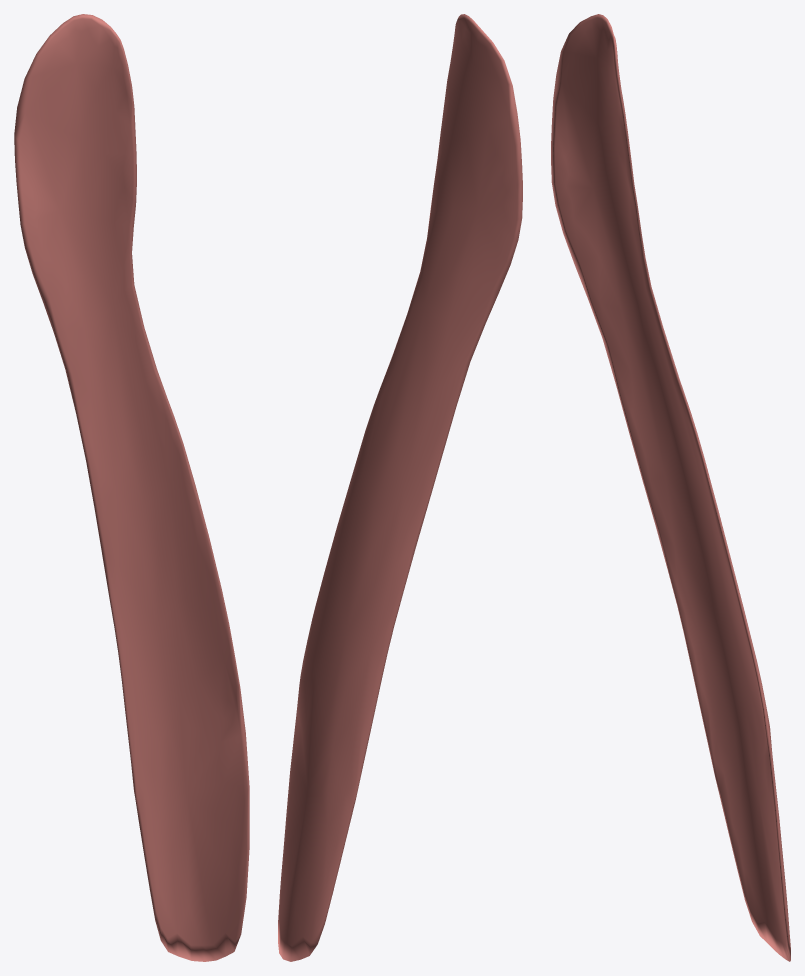
The picture shows the model from 3 angles, left to right: view 1: azimuth 30°, elevation 25°; view 2: azimuth 150°, elevation 25°; view 3: azimuth 330°, elevation 25°; orthographic projection. The views are drawn at different scales.
Parts seen in each view (by area): view 1: ZA_ff164a84d2175150; view 2: ZA_ff164a84d2175150; view 3: ZA_ff164a84d2175150.
Boxes of the visible parts, <box> form: ZA_ff164a84d2175150: <box>14,14,249,961</box>; ZA_ff164a84d2175150: <box>278,14,522,961</box>; ZA_ff164a84d2175150: <box>551,14,790,961</box>.
Bounding box in the file's own units: 0.0304 × 0.1212 × 0.0125.
